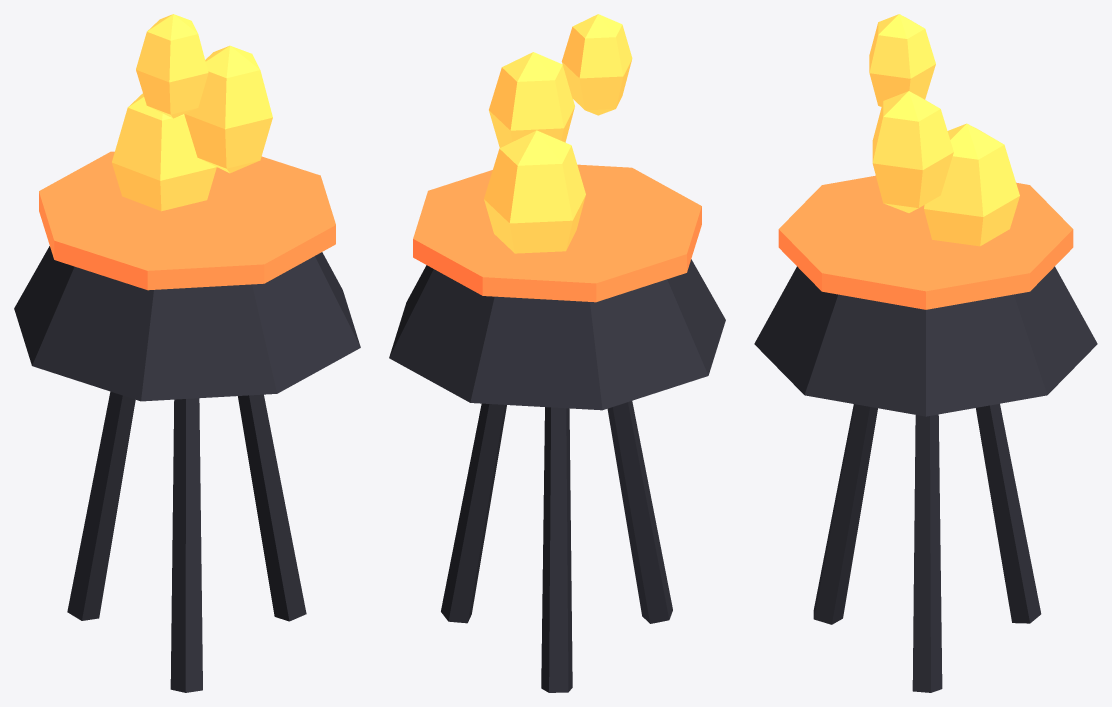
The model's file is prop_brazier.glb.
3 views of the same model, side by side, from view 1: azimuth 30°, elevation 25°; view 2: azimuth 150°, elevation 25°; view 3: azimuth 270°, elevation 25° (orthographic). The views are drawn at different scales.
Visible parts, largest first — view 1: prop_brazier; view 2: prop_brazier; view 3: prop_brazier.
Part boxes in pixels (bbox=[...]): prop_brazier: bbox=[14, 14, 360, 692]; prop_brazier: bbox=[389, 14, 725, 692]; prop_brazier: bbox=[754, 14, 1097, 692].
Bounding box in the file's own units: 0.84 × 1.66 × 0.84.
